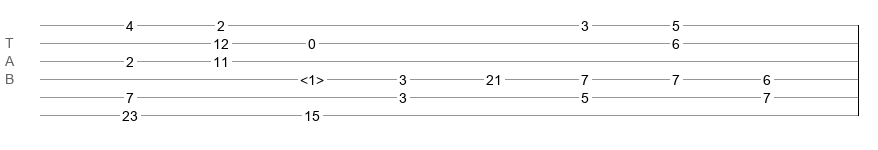0: (308, 36, 316, 46)
11: (213, 54, 229, 64)
12: (213, 36, 229, 46)
15: (304, 108, 320, 118)
2: (126, 54, 134, 64), (217, 18, 225, 28)
21: (486, 72, 502, 82)
23: (122, 108, 138, 118)
3: (399, 72, 407, 82), (399, 90, 407, 100), (581, 18, 589, 28)
4: (126, 18, 134, 28)
5: (581, 90, 589, 100), (672, 18, 680, 28)
6: (672, 36, 680, 46), (763, 72, 771, 82)
7: (126, 90, 134, 100), (581, 72, 589, 82), (672, 72, 680, 82), (763, 90, 771, 100)
harmonic: (300, 72, 324, 82)
